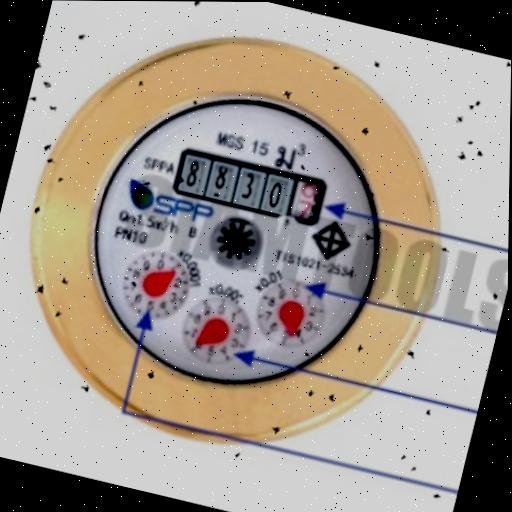0: (263, 178, 288, 213)
3: (237, 170, 260, 206)
6: (292, 181, 319, 221)
8: (180, 157, 205, 194), (208, 165, 233, 200)
border_water_meter_number: (170, 145, 330, 229)
